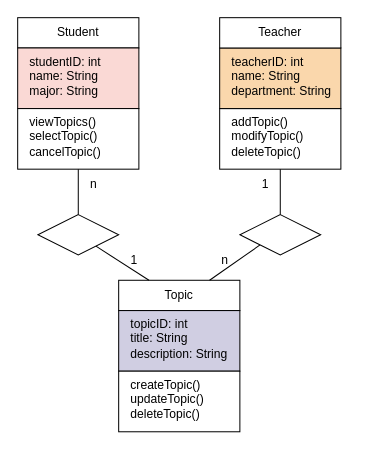
Image size: 369x449. Some labels were removed from this diagram. Here are the shapes that lost their labels. From the top down, the centre of each, then its label:
the point at 78,234: Select
the point at 280,234: Assigns
